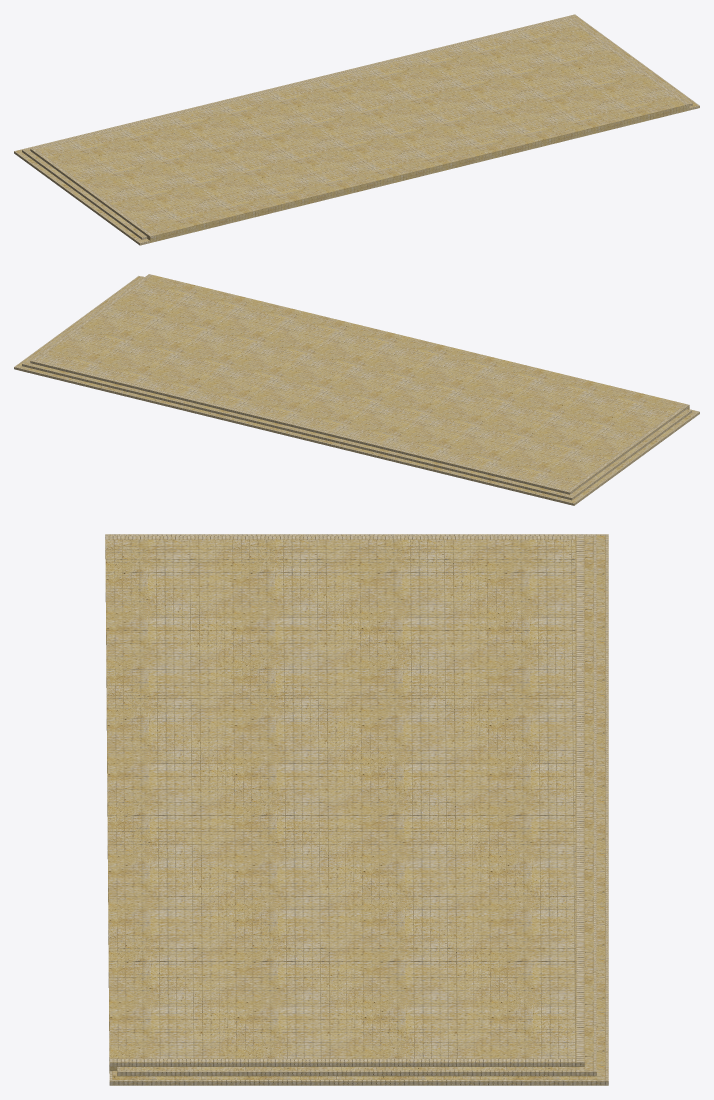
Rendered from tutorial_structure_piazza_floor.dae.
3 views of the same model, one above another, from view 1: azimuth 30°, elevation 25°; view 2: azimuth 150°, elevation 25°; view 3: azimuth 270°, elevation 25° (orthographic). The views are drawn at different scales.
Visible parts, largest first — view 1: tutorial_structure_piazza_floor; view 2: tutorial_structure_piazza_floor; view 3: tutorial_structure_piazza_floor.
Boxes of the visible parts, left/top/right/bottom form: tutorial_structure_piazza_floor: left=14, top=14, right=699, bottom=245; tutorial_structure_piazza_floor: left=14, top=274, right=699, bottom=505; tutorial_structure_piazza_floor: left=105, top=534, right=608, bottom=1085.
Size of the model in its own units: 107 by 41.45 by 1.18.
Materials: 2 (2 with a texture image).
